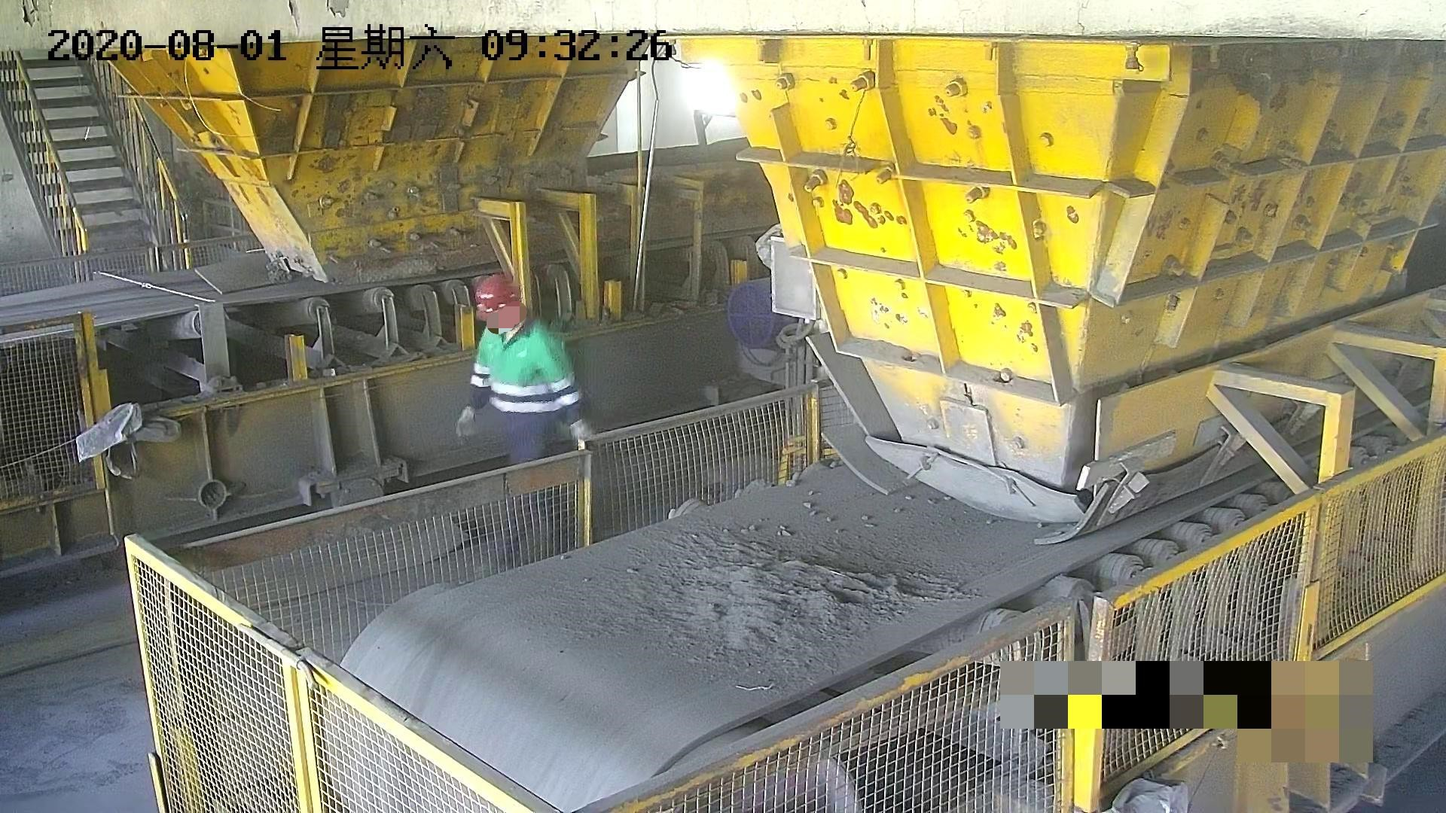hat: (474, 274, 523, 332)
person: (452, 273, 593, 547)
